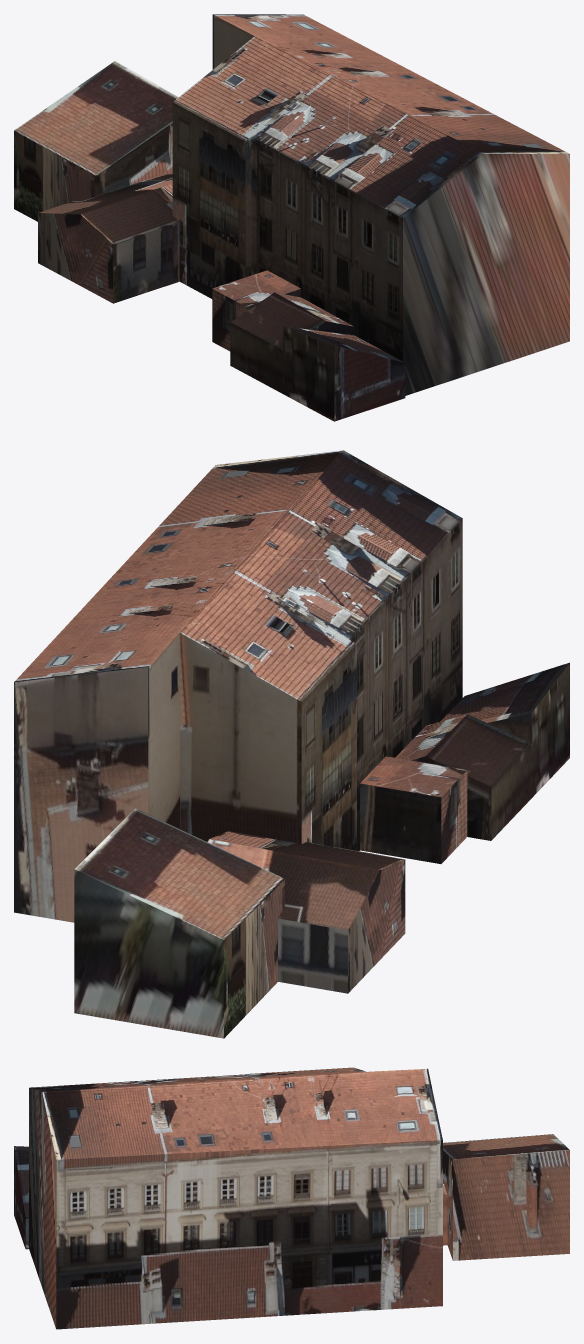
3 renders of one model, top to bottom at view 1: azimuth 30°, elevation 25°; view 2: azimuth 150°, elevation 25°; view 3: azimuth 270°, elevation 25°, orthographic. The views are drawn at different scales.
Parts seen in each view (by area): view 1: Z_UP; view 2: Z_UP; view 3: Z_UP.
Boxes of the visible parts, bbox=[...] form: Z_UP: bbox=[14, 14, 569, 421]; Z_UP: bbox=[14, 450, 569, 1038]; Z_UP: bbox=[14, 1067, 569, 1329].
Size of the model in its own units: 26.84 by 17.41 by 44.78.
Materials: 2 (1 with a texture image).
